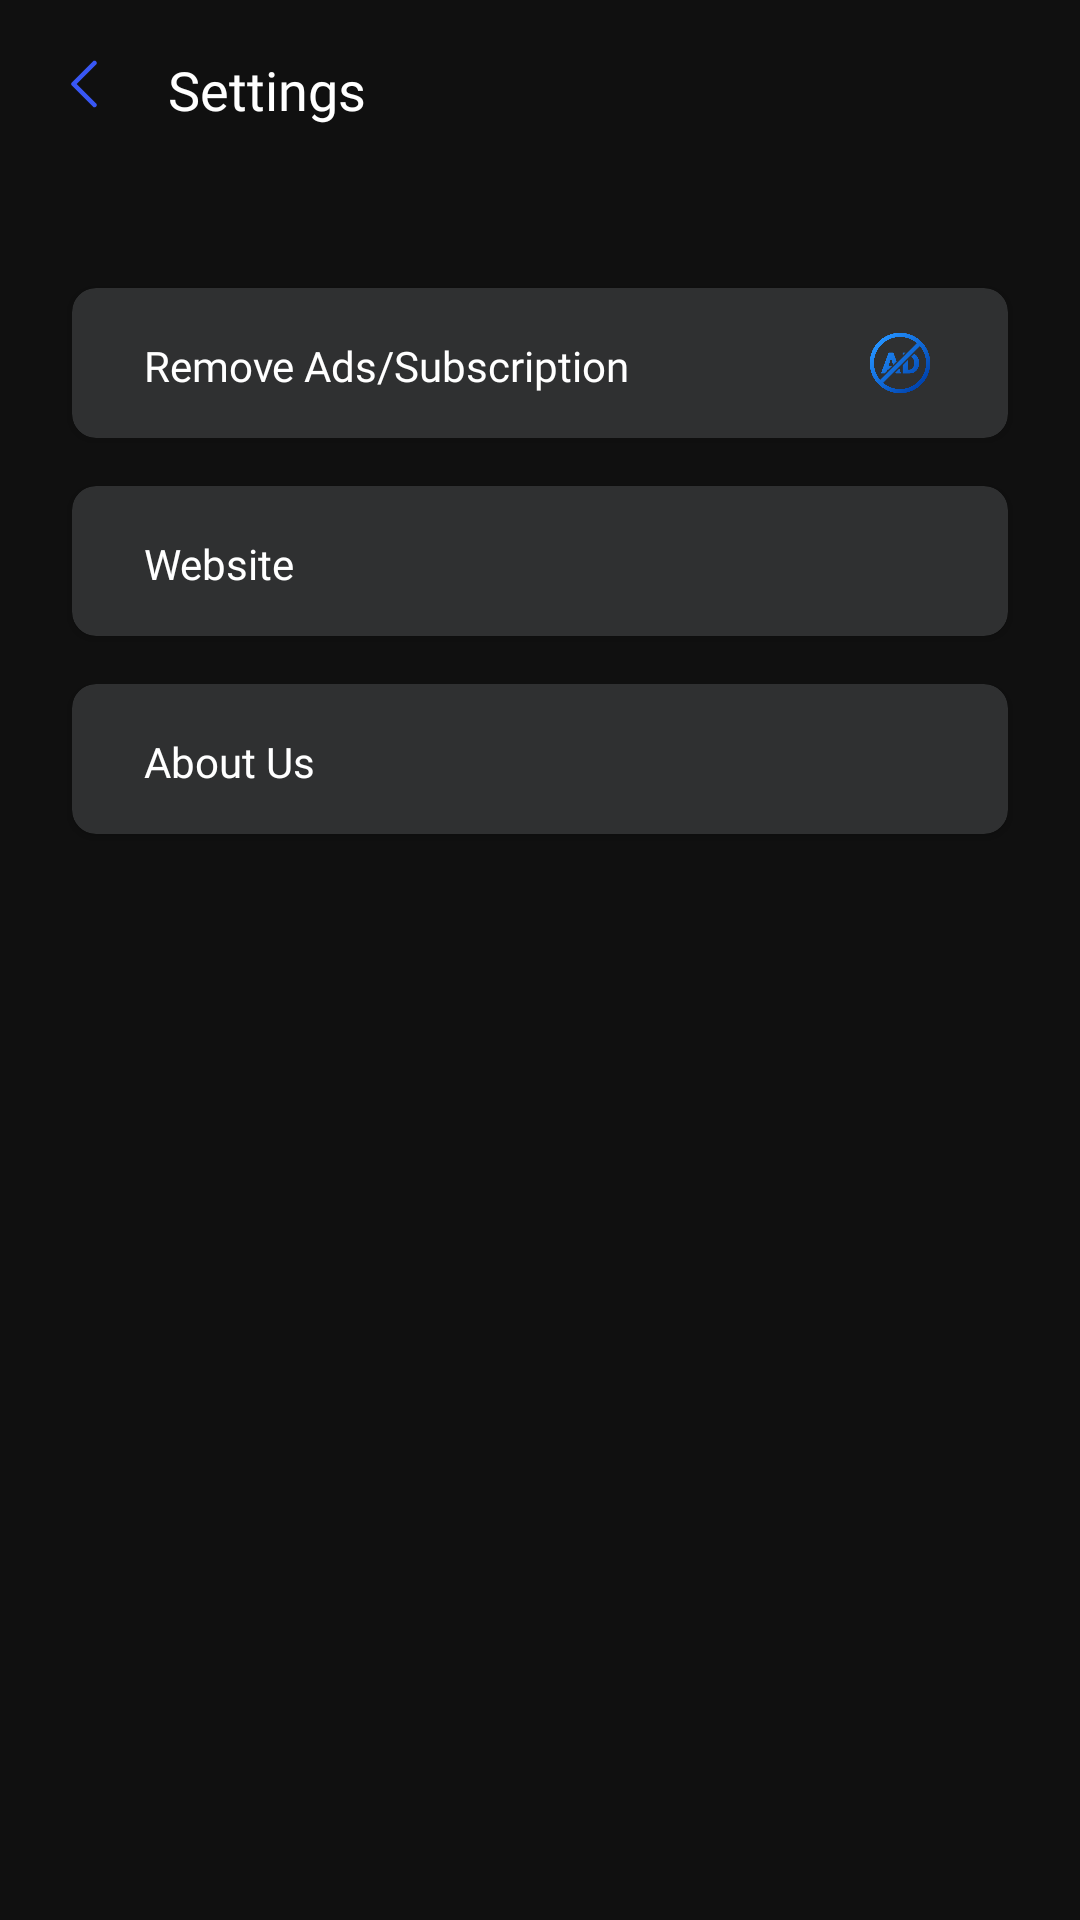

Where icons sit on this 1080w x 1920h app screen, as box=[x1, y1, x2, y2]:
left: box=[71, 60, 97, 108]
remove ads: box=[870, 333, 930, 393]
